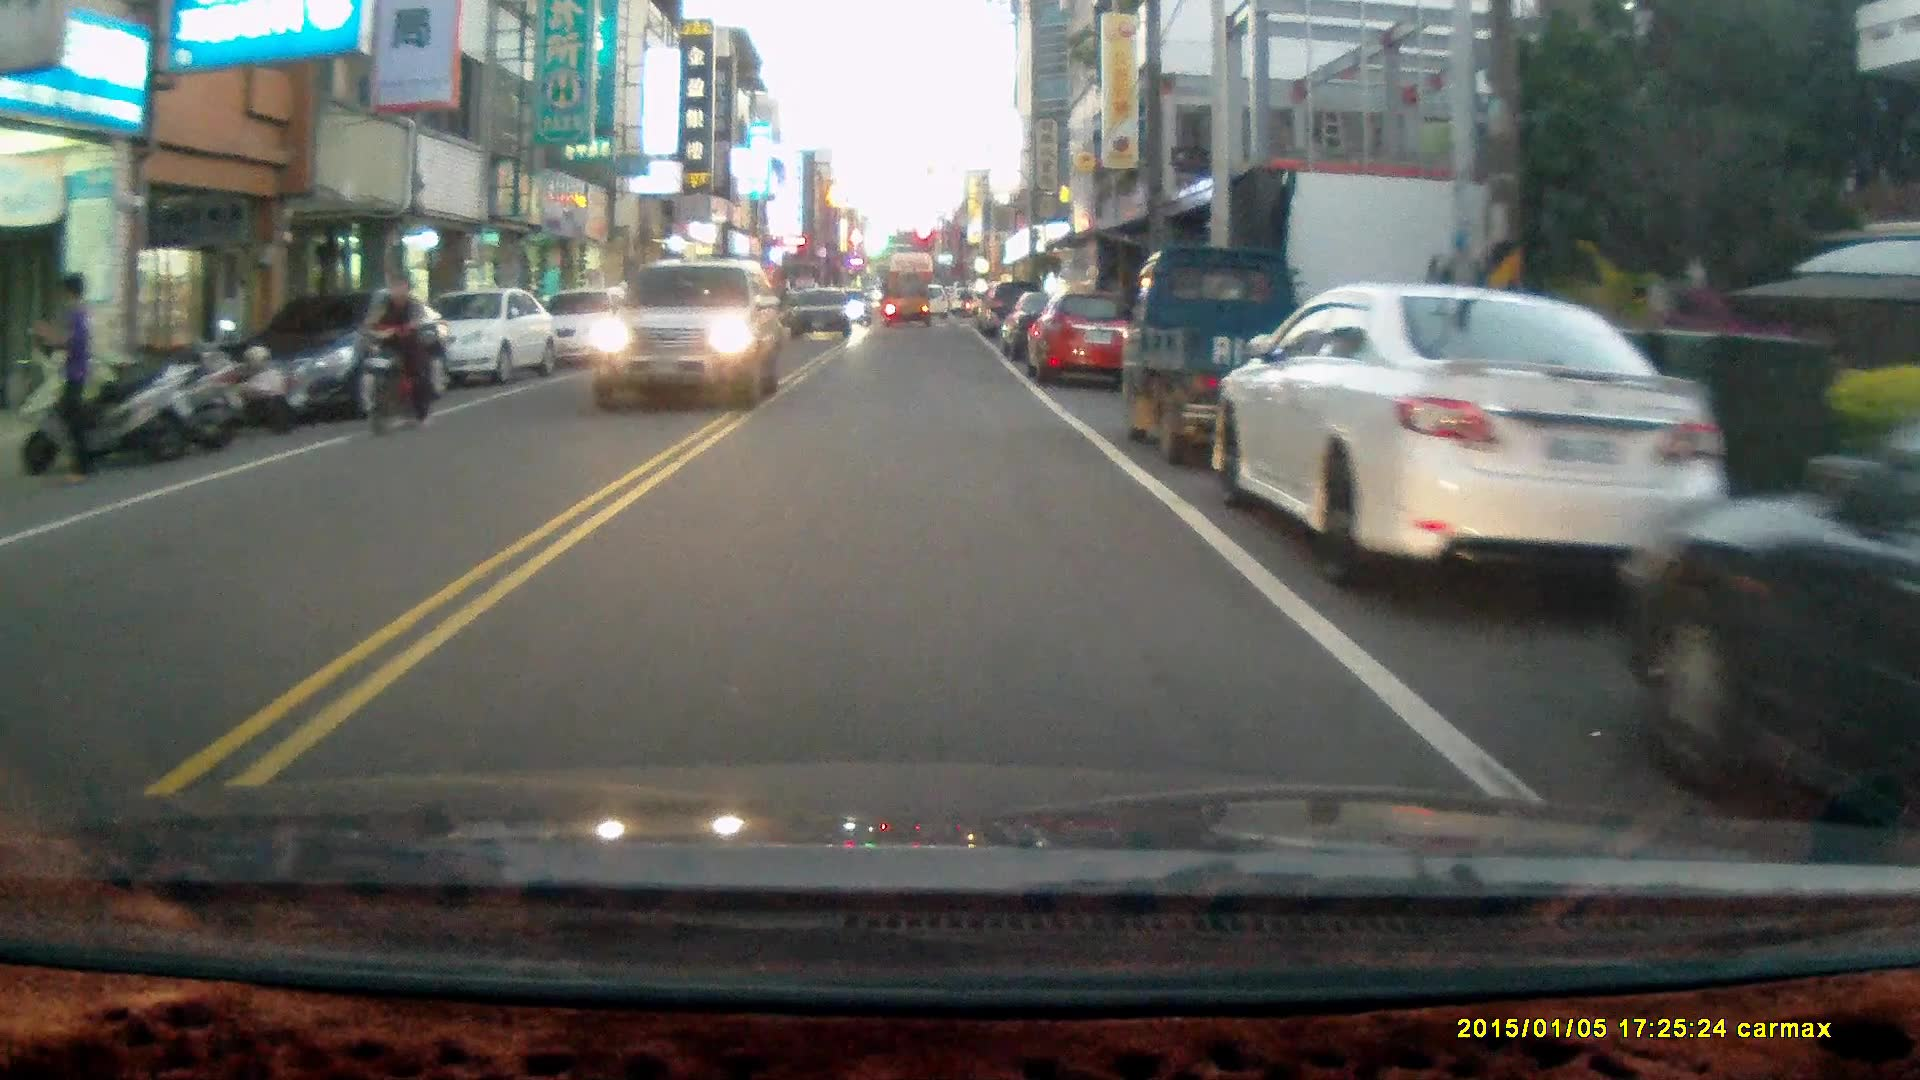pedestrian: (32, 270, 94, 492)
rider: (357, 270, 433, 437)
vehicle: (1206, 279, 1742, 602), (1627, 405, 1920, 851), (1123, 241, 1349, 470), (590, 256, 784, 418), (219, 285, 443, 420), (385, 287, 558, 392), (1031, 290, 1137, 391), (786, 289, 857, 341), (882, 274, 935, 332)
